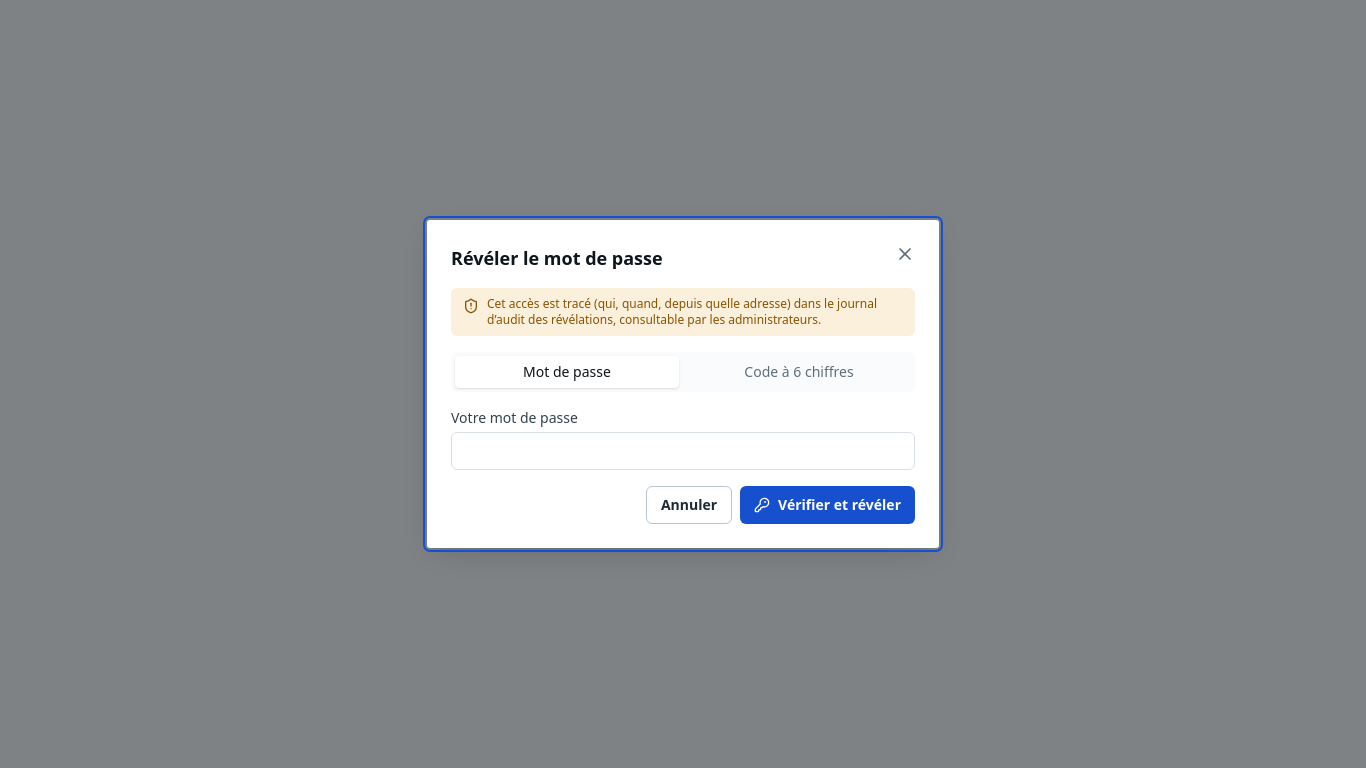
Test: RevealSecretModal › ré-authentification › affiche un message dédié en cas de dépassement du rate limit
The image size is (1366, 768).
Step 1. Type "MotDePasse!" into the password field labelled "Votre mot de passe" → (683, 451), box [451, 432, 915, 470]
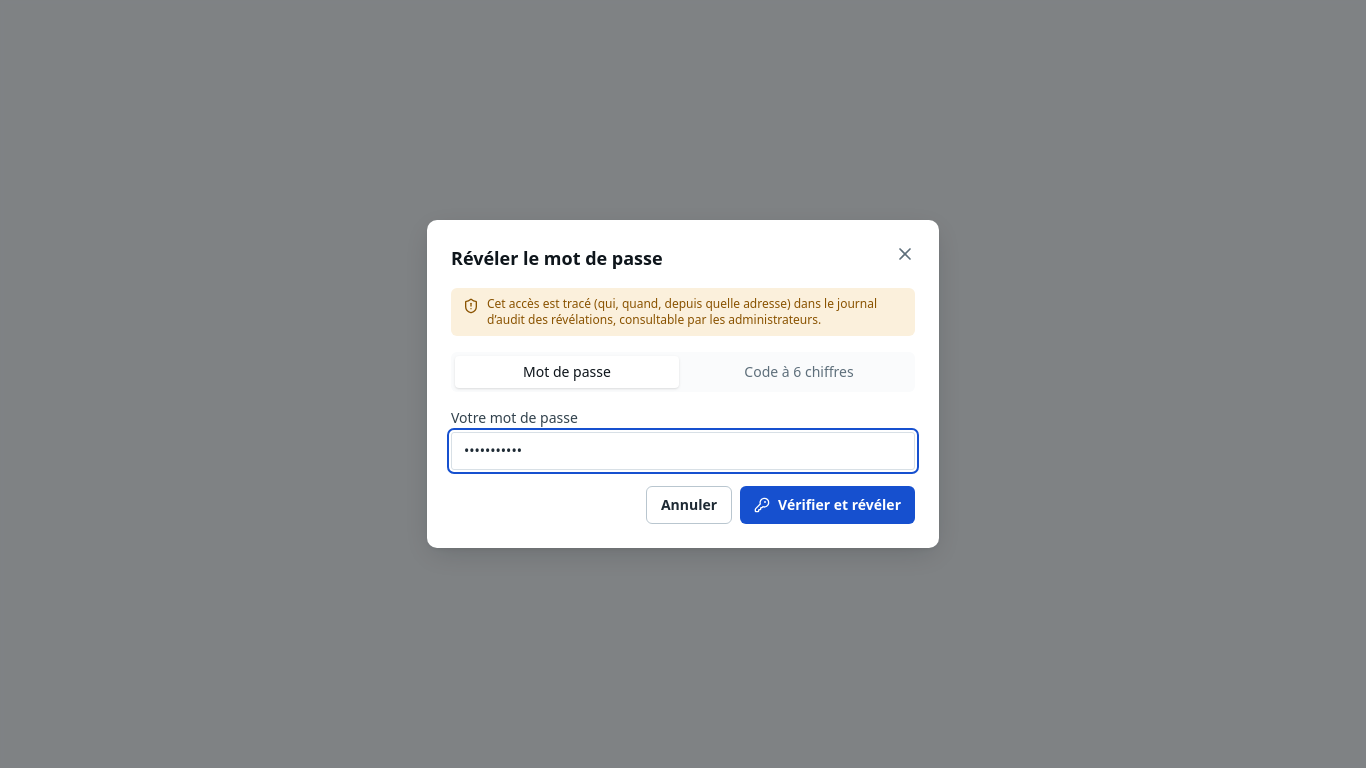
Step 2. Click the button "Vérifier et révéler" → (828, 505), box [740, 486, 915, 524]
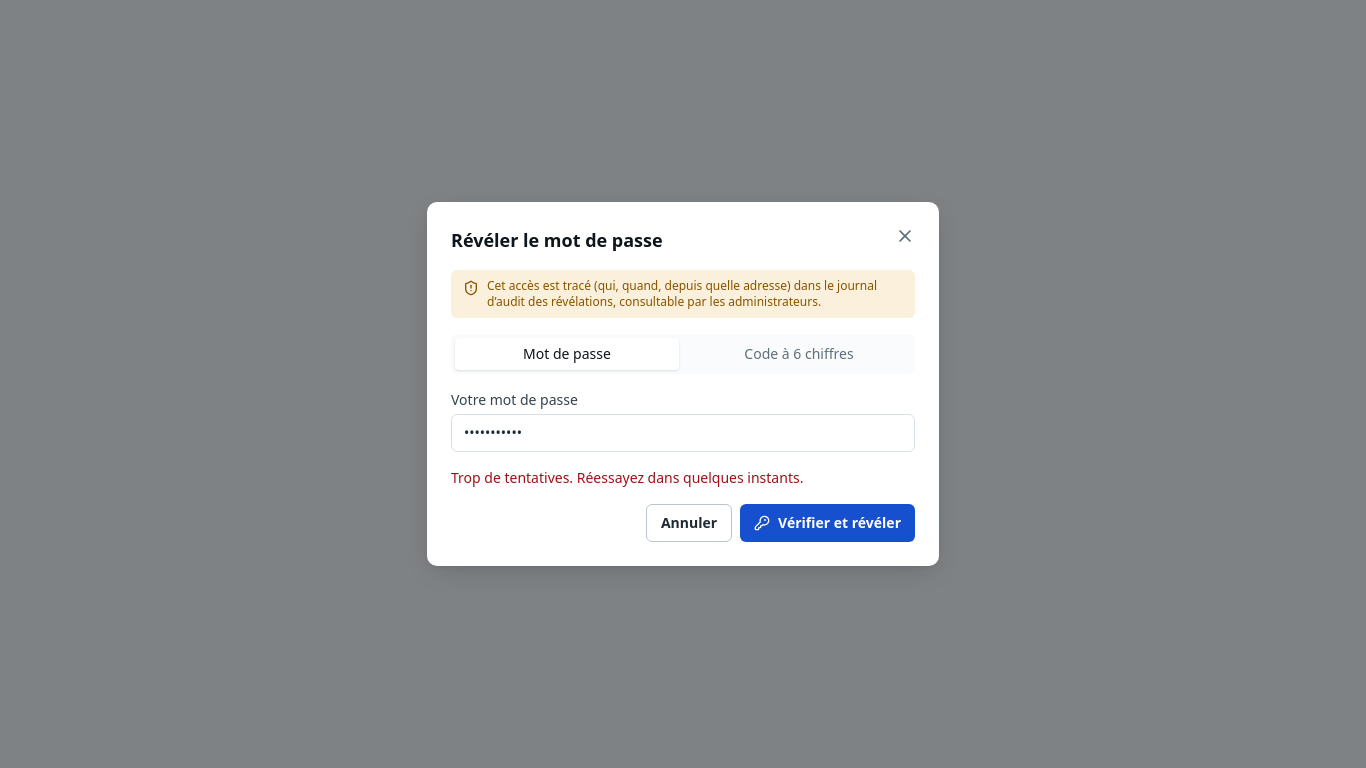
Check: the text "Trop de tentatives. Réessayez dans quelques instants." is shown, box [451, 468, 803, 487]
